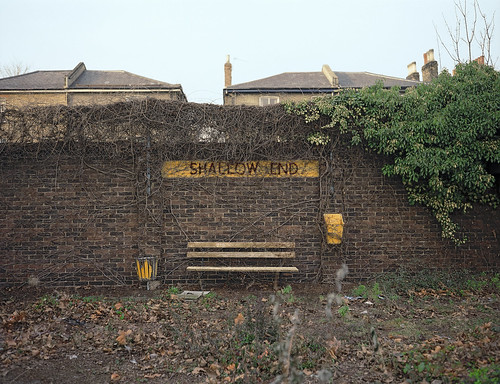bench: (179, 238, 304, 296)
building: (1, 68, 184, 140), (219, 66, 430, 104)
sky: (1, 1, 435, 62)
vegetation: (8, 84, 500, 183)
wall: (13, 142, 500, 286)
